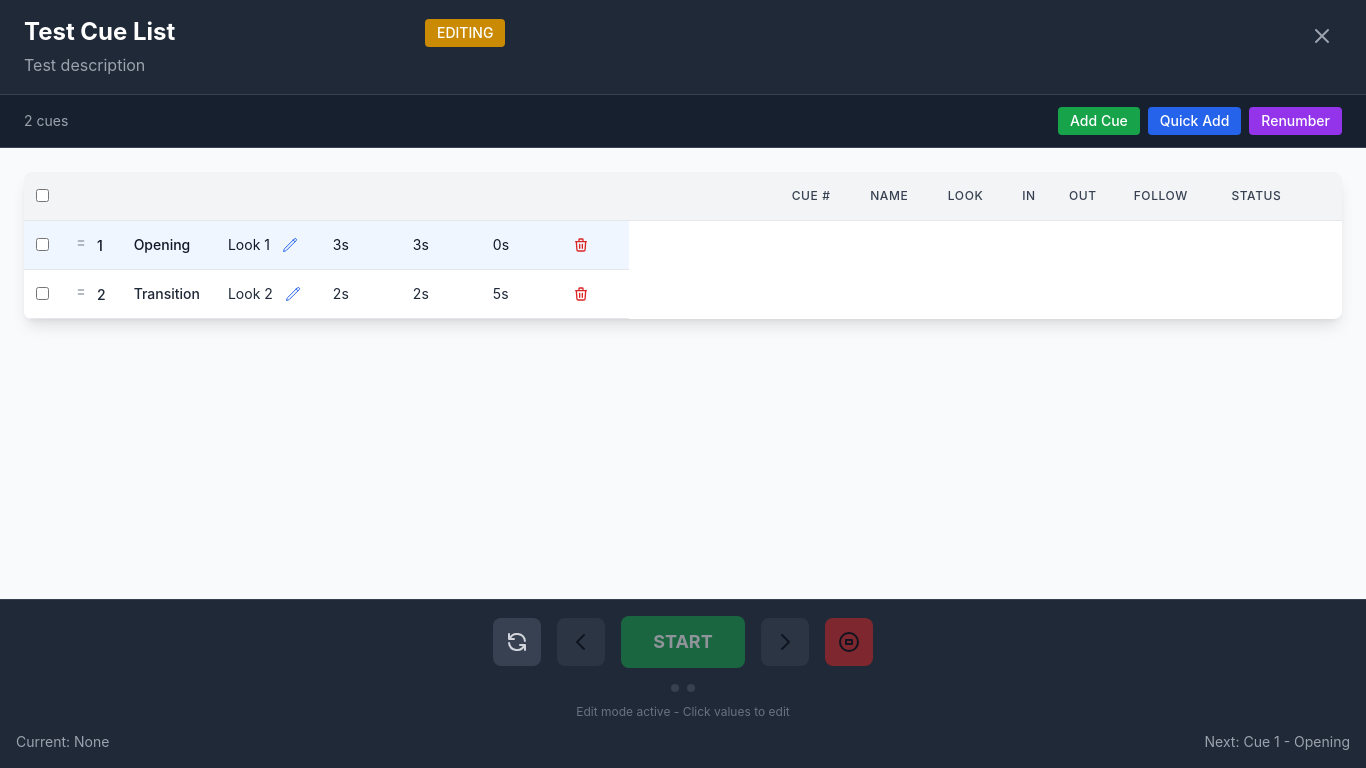
Scenario: CueListUnifiedView › additional edge cases › handles checkbox selection state changes
Check: the text "EDITING" is shown, box [425,18,505,46]
Click the 3rd checkbox: (42, 294) [36,287,49,300]
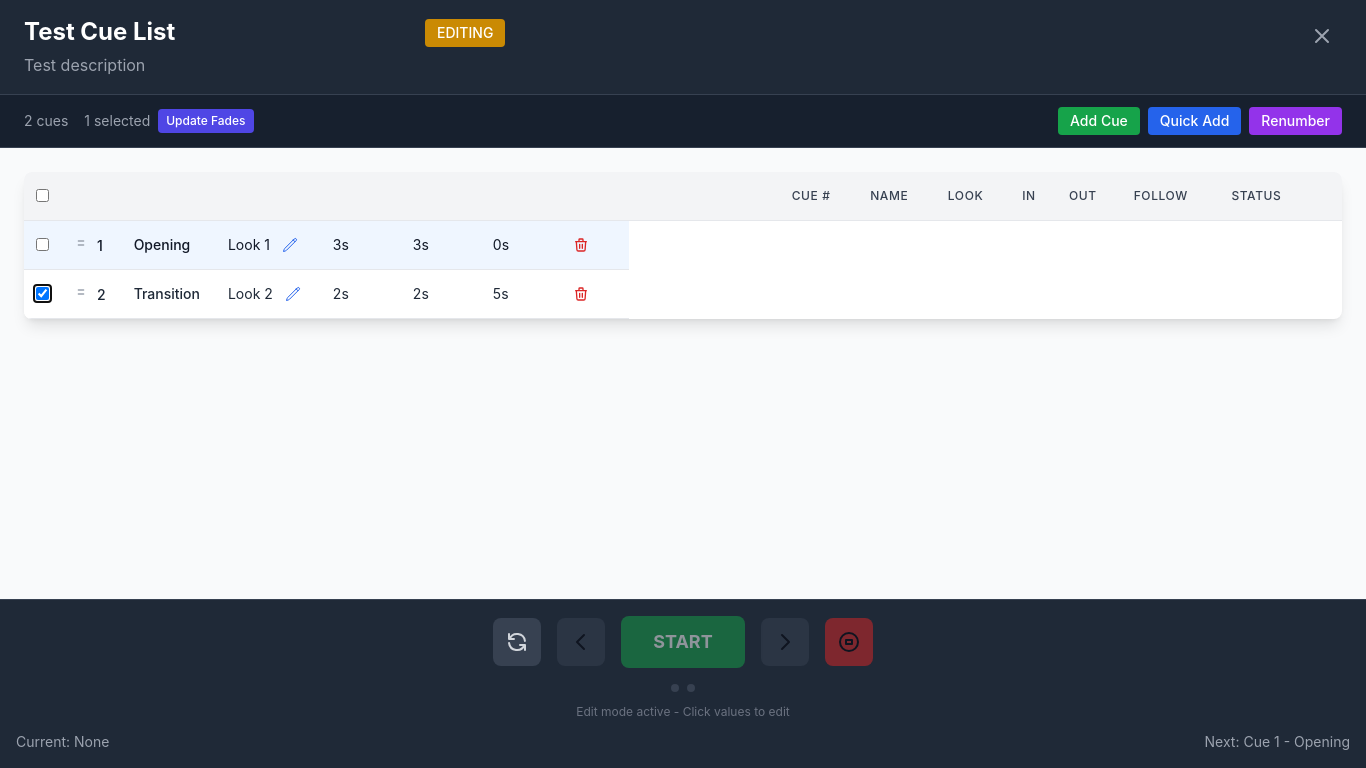
Check: the text "1 selected" is shown, box [84,111,150,131]
